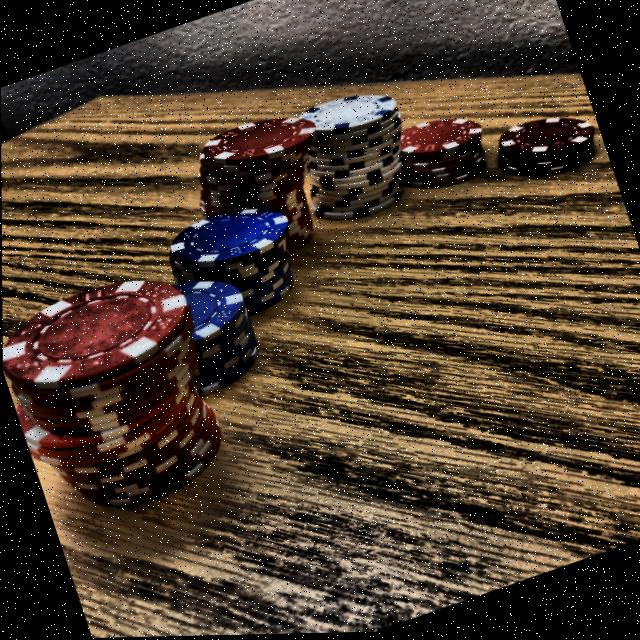Chip: (1, 222, 261, 554), (166, 89, 355, 293), (269, 71, 439, 253), (126, 253, 284, 417), (157, 186, 315, 344), (366, 94, 508, 223), (466, 96, 605, 213)
